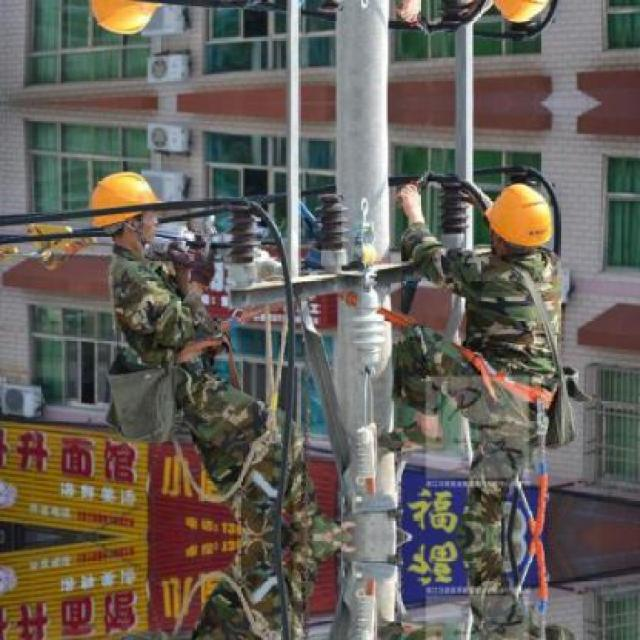helmet: (83, 160, 169, 254), (483, 176, 557, 255), (83, 0, 171, 43), (483, 0, 559, 28)
